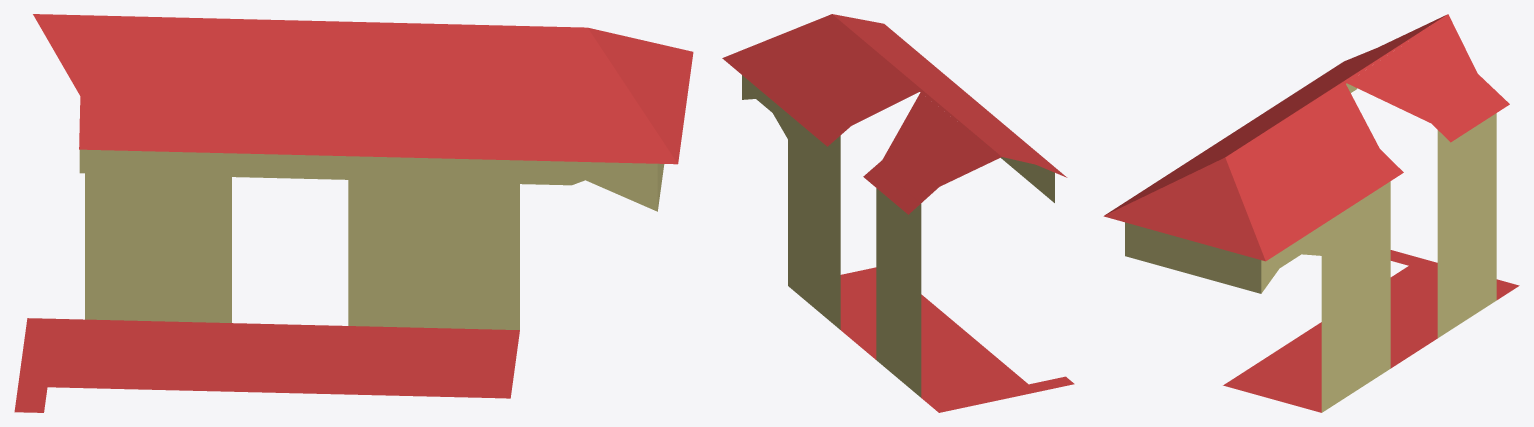
The picture shows the model from 3 angles, left to right: view 1: azimuth 30°, elevation 25°; view 2: azimuth 150°, elevation 25°; view 3: azimuth 270°, elevation 25°; orthographic projection. The views are drawn at different scales.
Visible parts, largest first — view 1: group_3, group_5, group_6, group_4; view 2: group_3, group_5, group_6, group_4; view 3: group_3, group_5, group_6, group_4.
Part boxes in pixels (<box>): group_3: <box>33,14,693,164</box>; group_5: <box>79,149,664,330</box>; group_6: <box>14,318,519,412</box>; group_4: <box>79,130,603,149</box>; group_3: <box>722,14,1067,214</box>; group_5: <box>742,75,1054,397</box>; group_6: <box>840,267,1074,412</box>; group_4: <box>724,40,1059,213</box>; group_3: <box>1103,14,1509,261</box>; group_5: <box>1125,83,1496,412</box>; group_6: <box>1223,250,1519,412</box>; group_4: <box>1154,61,1506,258</box>.
Bounding box in the file's own units: 23.94 × 19.76 × 13.4.
